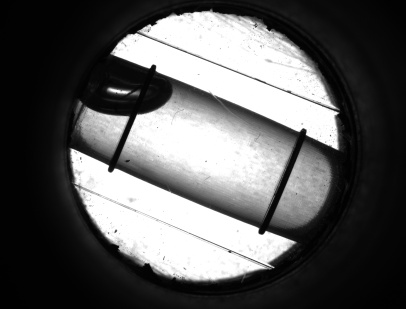line: (262, 150, 303, 214), (110, 122, 136, 153)
